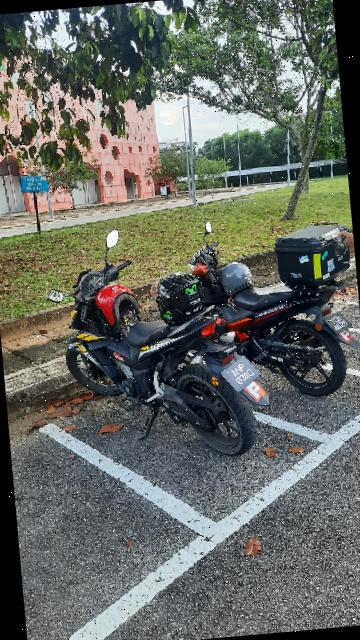License_Plate: (221, 355, 266, 395), (322, 312, 354, 338)
motorcycle: (38, 218, 276, 473), (158, 214, 360, 414)
